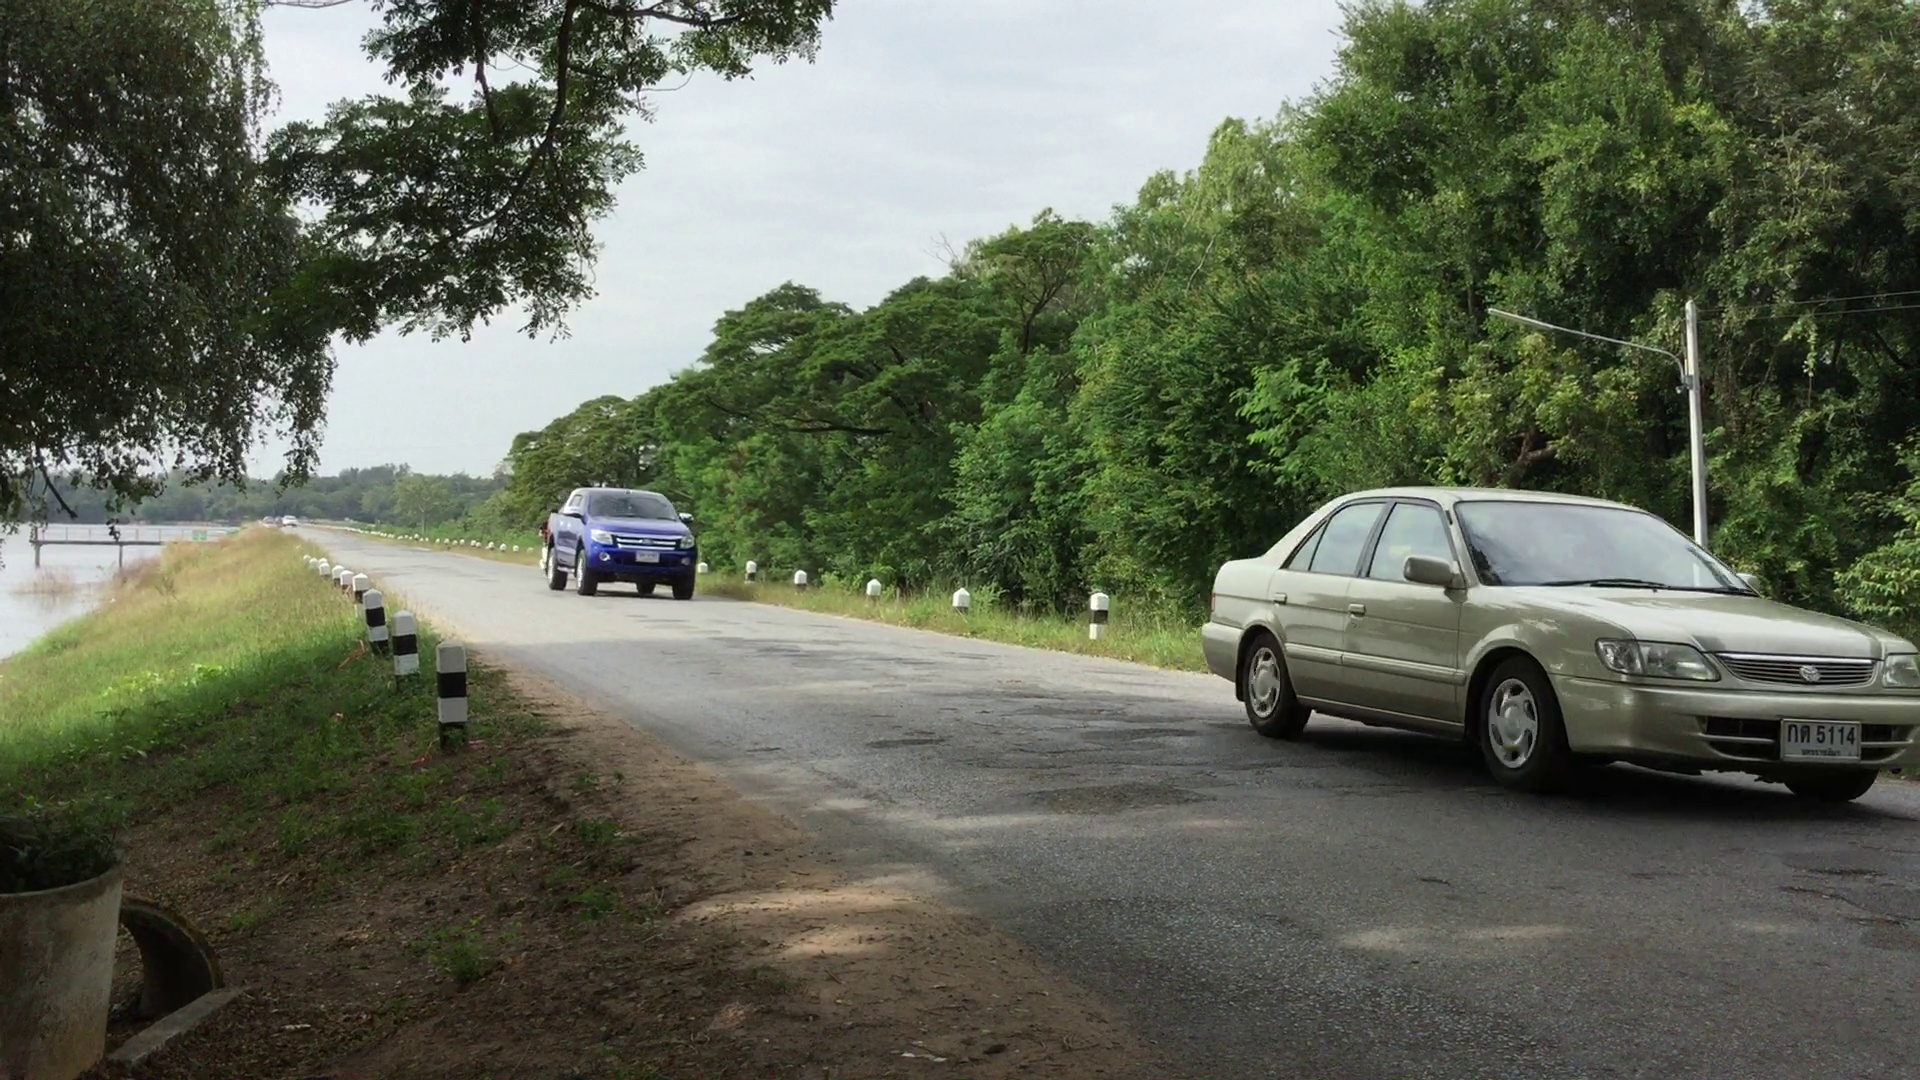car: (1203, 502, 1920, 785), (531, 487, 702, 591)
